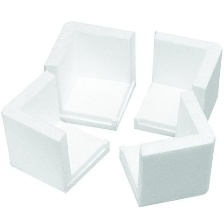foam_box: (0, 65, 113, 195), (115, 86, 218, 211), (36, 18, 139, 133), (131, 27, 224, 141)
